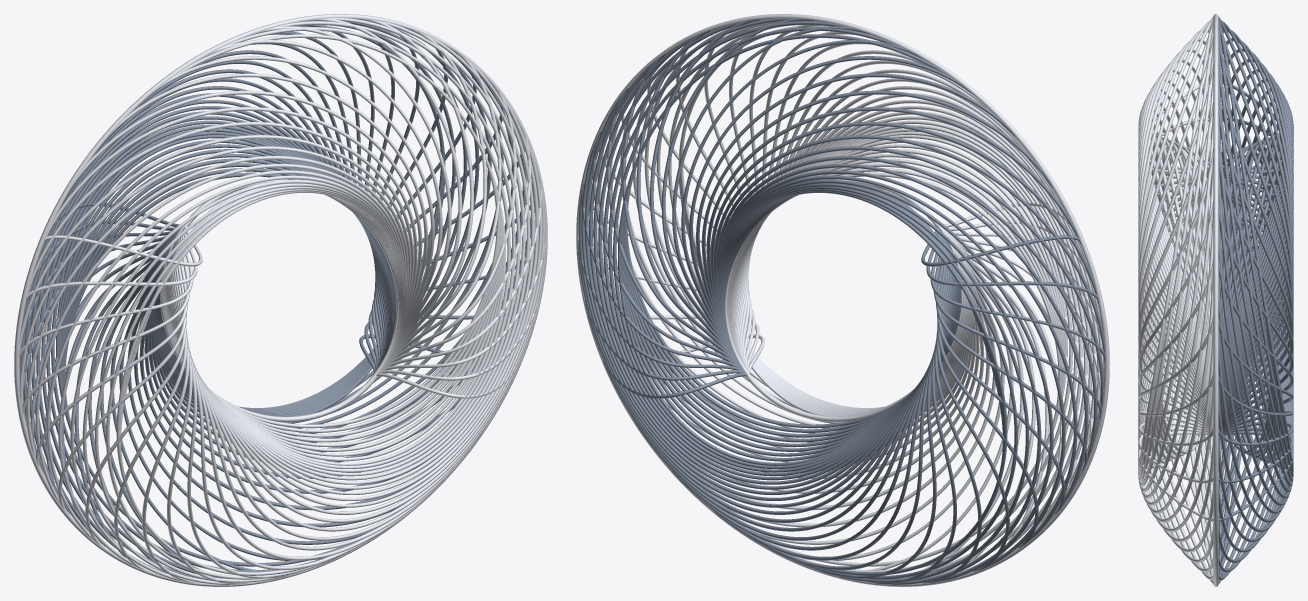
The model's file is 3eddd33f-f9ee-4e7e-81c2-94f0cc45e6ac.glb.
The picture shows the model from 3 angles, left to right: view 1: azimuth 30°, elevation 25°; view 2: azimuth 150°, elevation 25°; view 3: azimuth 270°, elevation 25°; orthographic projection. The views are drawn at different scales.
Visible parts, largest first — view 1: ONE — aro circular externo, ONE — polo 1 — nervura 27, ONE — polo 1 — nervura 28, ONE — polo 1 — nervura 26, ONE — polo 1 — nervura 25, ONE — polo 1 — nervura 24, ONE — polo 2 — nervura 24, ONE — polo 2 — nervura 23, ONE — polo 2 — nervura 25, ONE — polo 2 — nervura 22, ONE — polo 1 — nervura 23, ONE — polo 2 — nervura 26 (+101 smaller); view 2: ONE — aro circular externo, ONE — polo 1 — nervura 27 — verso, ONE — polo 1 — nervura 28 — verso, ONE — polo 1 — nervura 26 — verso, ONE — polo 1 — nervura 25 — verso, ONE — polo 1 — nervura 24 — verso, ONE — polo 2 — nervura 24 — verso, ONE — polo 2 — nervura 23 — verso, ONE — polo 2 — nervura 25 — verso, ONE — polo 2 — nervura 22 — verso, ONE — polo 1 — nervura 23 — verso, ONE — polo 2 — nervura 26 — verso (+101 smaller); view 3: ONE — aro circular externo, ONE — polo 1 — nervura 27 — verso, ONE — polo 1 — nervura 27, ONE — polo 1 — nervura 26 — verso, ONE — polo 1 — nervura 26, ONE — polo 1 — nervura 28 — verso, ONE — polo 1 — nervura 28, ONE — polo 1 — nervura 25 — verso, ONE — polo 1 — nervura 25, ONE — polo 1 — nervura 24 — verso, ONE — polo 1 — nervura 24, ONE — polo 1 — nervura 23 — verso (+103 smaller).
Part boxes in pixels (left/top/right/bottom): ONE — aro circular externo: left=14, top=14, right=547, bottom=586; ONE — polo 1 — nervura 27: left=163, top=27, right=510, bottom=468; ONE — polo 1 — nervura 28: left=150, top=34, right=505, bottom=465; ONE — polo 1 — nervura 26: left=163, top=21, right=515, bottom=472; ONE — polo 1 — nervura 25: left=164, top=18, right=520, bottom=476; ONE — polo 1 — nervura 24: left=164, top=19, right=525, bottom=480; ONE — polo 2 — nervura 24: left=70, top=179, right=402, bottom=583; ONE — polo 2 — nervura 23: left=58, top=175, right=403, bottom=572; ONE — polo 2 — nervura 25: left=82, top=183, right=402, bottom=584; ONE — polo 2 — nervura 22: left=46, top=170, right=403, bottom=548; ONE — polo 1 — nervura 23: left=164, top=30, right=530, bottom=484; ONE — polo 2 — nervura 26: left=94, top=186, right=401, bottom=582; ONE — aro circular externo: left=576, top=14, right=1109, bottom=586; ONE — polo 1 — nervura 27 — verso: left=613, top=27, right=960, bottom=468; ONE — polo 1 — nervura 28 — verso: left=618, top=34, right=973, bottom=465; ONE — polo 1 — nervura 26 — verso: left=608, top=21, right=960, bottom=472; ONE — polo 1 — nervura 25 — verso: left=603, top=18, right=959, bottom=476; ONE — polo 1 — nervura 24 — verso: left=598, top=19, right=959, bottom=480; ONE — polo 2 — nervura 24 — verso: left=721, top=179, right=1053, bottom=583; ONE — polo 2 — nervura 23 — verso: left=720, top=175, right=1065, bottom=572; ONE — polo 2 — nervura 25 — verso: left=721, top=183, right=1041, bottom=584; ONE — polo 2 — nervura 22 — verso: left=720, top=170, right=1077, bottom=548; ONE — polo 1 — nervura 23 — verso: left=593, top=30, right=959, bottom=484; ONE — polo 2 — nervura 26 — verso: left=722, top=186, right=1029, bottom=582; ONE — aro circular externo: left=1213, top=14, right=1218, bottom=586; ONE — polo 1 — nervura 27 — verso: left=1218, top=24, right=1293, bottom=476; ONE — polo 1 — nervura 27: left=1138, top=24, right=1213, bottom=476; ONE — polo 1 — nervura 26 — verso: left=1218, top=43, right=1293, bottom=481; ONE — polo 1 — nervura 26: left=1138, top=43, right=1213, bottom=481; ONE — polo 1 — nervura 28 — verso: left=1218, top=17, right=1293, bottom=472; ONE — polo 1 — nervura 28: left=1138, top=17, right=1213, bottom=472; ONE — polo 1 — nervura 25 — verso: left=1218, top=72, right=1293, bottom=486; ONE — polo 1 — nervura 25: left=1138, top=72, right=1213, bottom=486; ONE — polo 1 — nervura 24 — verso: left=1218, top=110, right=1293, bottom=492; ONE — polo 1 — nervura 24: left=1138, top=110, right=1213, bottom=492; ONE — polo 1 — nervura 23 — verso: left=1218, top=157, right=1293, bottom=498.
Size of the model in its own units: 1.77 by 1.77 by 0.481.
